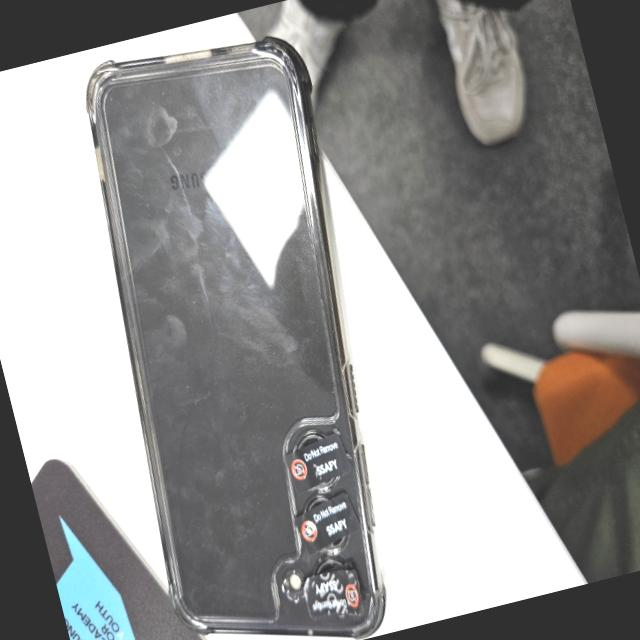phone: (38, 10, 447, 640)
removed_sticker: (302, 567, 364, 620)
sticker: (292, 489, 360, 552), (282, 431, 352, 492)
